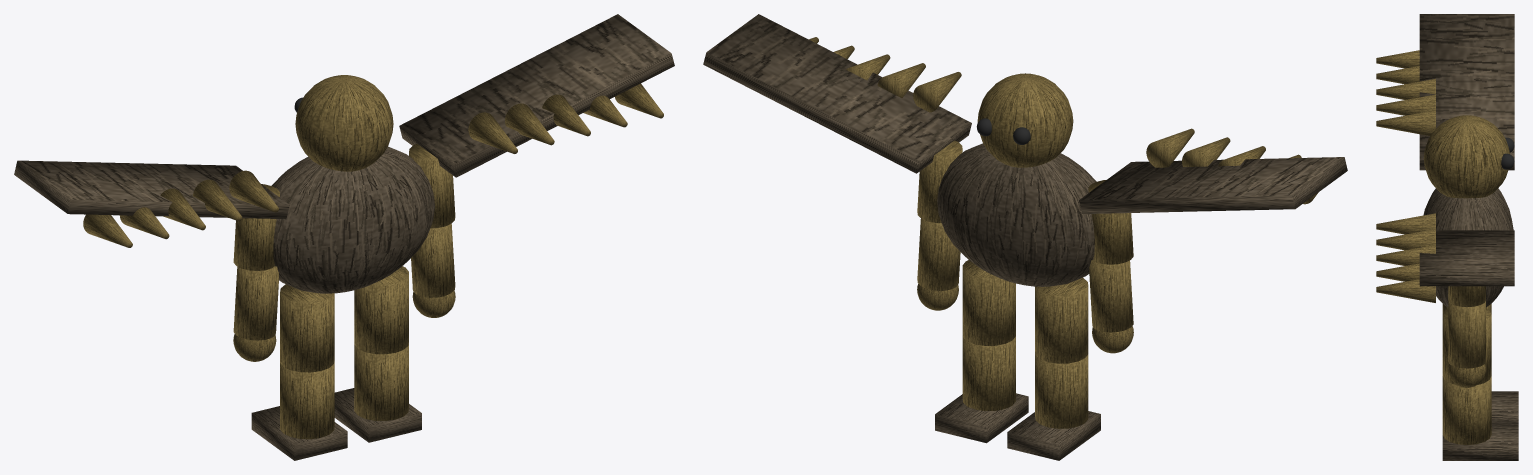
Rendered from garuda.glb.
3 renders of one model, left to right at view 1: azimuth 30°, elevation 25°; view 2: azimuth 150°, elevation 25°; view 3: azimuth 270°, elevation 25°, orthographic. The views are drawn at different scales.
Parts seen in each view (by area): view 1: Torso, Wing.001, Wing, Head, ThighL, ThighR, ShinL, ShinR, ForearmL, ForearmR, FootL, UpperArmL (+14 smaller); view 2: Torso, Wing.001, Wing, Head, ThighL, ThighR, ShinL, ShinR, ForearmL, FootL, FootR, ForearmR (+8 smaller); view 3: Wing, Head, Wing.001, Torso, ShinR, ForearmR, FootR, ThighR, Feather, FootL, Feather.009, Feather.005 (+10 smaller).
Boxes of the visible parts, x1=… form: Torso: x1=271, y1=146, x2=434, y2=293; Wing.001: x1=399, y1=14, x2=674, y2=177; Wing: x1=14, y1=160, x2=289, y2=219; Head: x1=295, y1=75, x2=393, y2=171; ThighL: x1=280, y1=284, x2=334, y2=372; ThighR: x1=354, y1=266, x2=408, y2=354; ShinL: x1=280, y1=361, x2=334, y2=439; ShinR: x1=354, y1=343, x2=408, y2=420; ForearmL: x1=233, y1=266, x2=278, y2=340; ForearmR: x1=411, y1=224, x2=455, y2=297; FootL: x1=251, y1=406, x2=347, y2=460; UpperArmL: x1=233, y1=184, x2=279, y2=270; Torso: x1=937, y1=143, x2=1096, y2=286; Wing.001: x1=703, y1=14, x2=971, y2=173; Wing: x1=1079, y1=157, x2=1347, y2=213; Head: x1=977, y1=73, x2=1073, y2=167; ThighL: x1=1035, y1=277, x2=1088, y2=363; ThighR: x1=962, y1=260, x2=1015, y2=345; ShinL: x1=1035, y1=352, x2=1088, y2=428; ShinR: x1=962, y1=335, x2=1015, y2=410; ForearmL: x1=1089, y1=260, x2=1133, y2=332; FootL: x1=1007, y1=411, x2=1100, y2=460; FootR: x1=935, y1=393, x2=1028, y2=443; ForearmR: x1=917, y1=218, x2=960, y2=290; Wing: x1=1419, y1=14, x2=1514, y2=170; Head: x1=1423, y1=115, x2=1509, y2=198; Wing.001: x1=1419, y1=230, x2=1514, y2=286; Torso: x1=1423, y1=188, x2=1513, y2=307; ShinR: x1=1442, y1=376, x2=1491, y2=444; ForearmR: x1=1448, y1=301, x2=1485, y2=368; FootR: x1=1442, y1=423, x2=1518, y2=460; ThighR: x1=1442, y1=308, x2=1491, y2=384; Feather: x1=1376, y1=110, x2=1435, y2=135; FootL: x1=1491, y1=391, x2=1518, y2=423; Feather.009: x1=1376, y1=279, x2=1435, y2=302; Feather.005: x1=1376, y1=213, x2=1435, y2=234.
Bounding box in the file's own units: 1.79 × 1 × 0.4102.
Materials: 5 (4 with a texture image).
